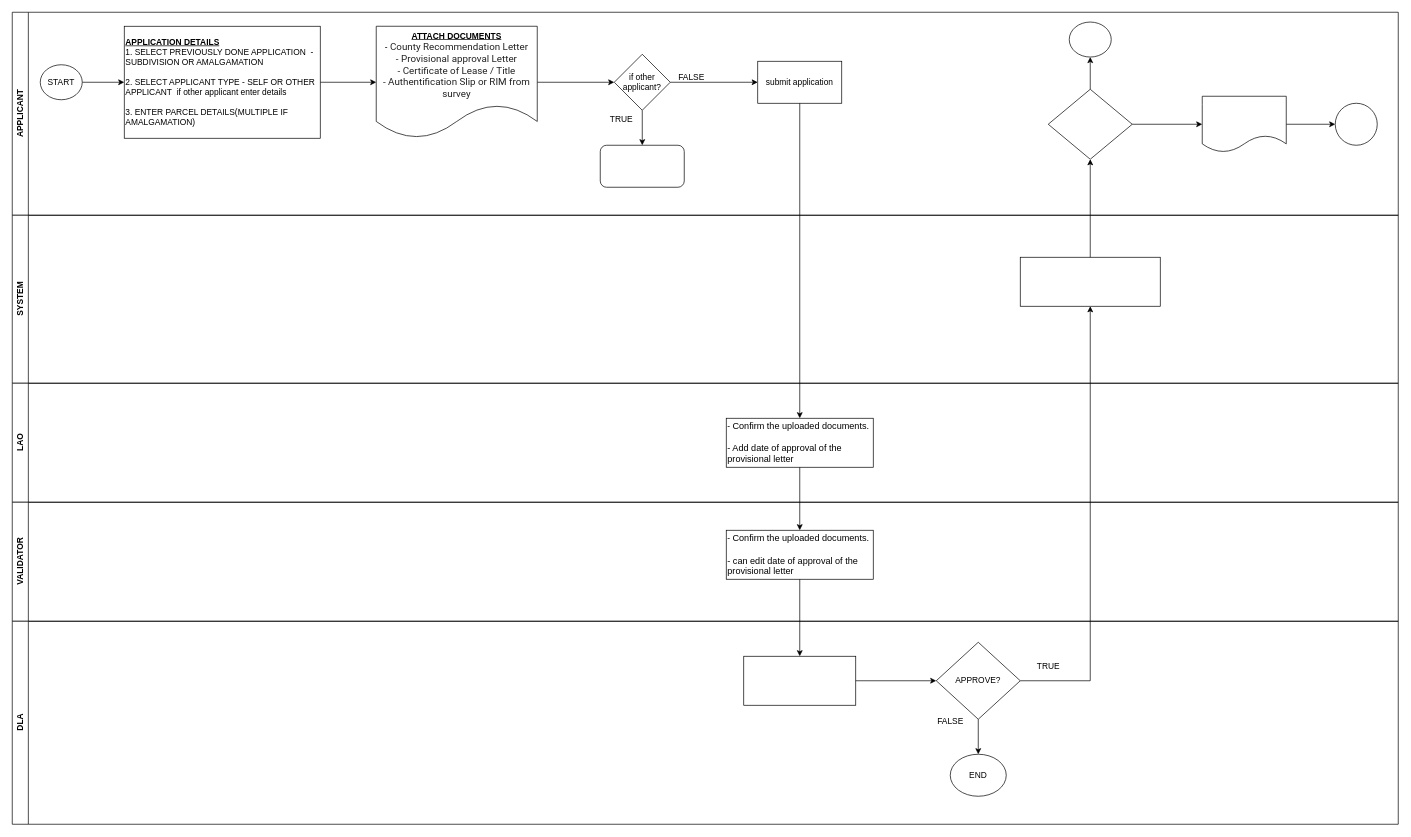
The diagram is 1411 pixels wide and 837 high, and some of its shapes have lost their labels. The shapes that lost their labels are listed below. From the top down, each one's centre as x and y in pixels, then its label:
[1090,39]: process stalls
[1090,124]: PAY INVOICE
[1244,124]: DOWNLOAD FINAL APPROVAL LETTER
[1356,124]: ENDS
[642,166]: verifies with OTP
[1090,281]: GENERATES Development Control Approval Fee
[799,680]: Can approve, reject or return
